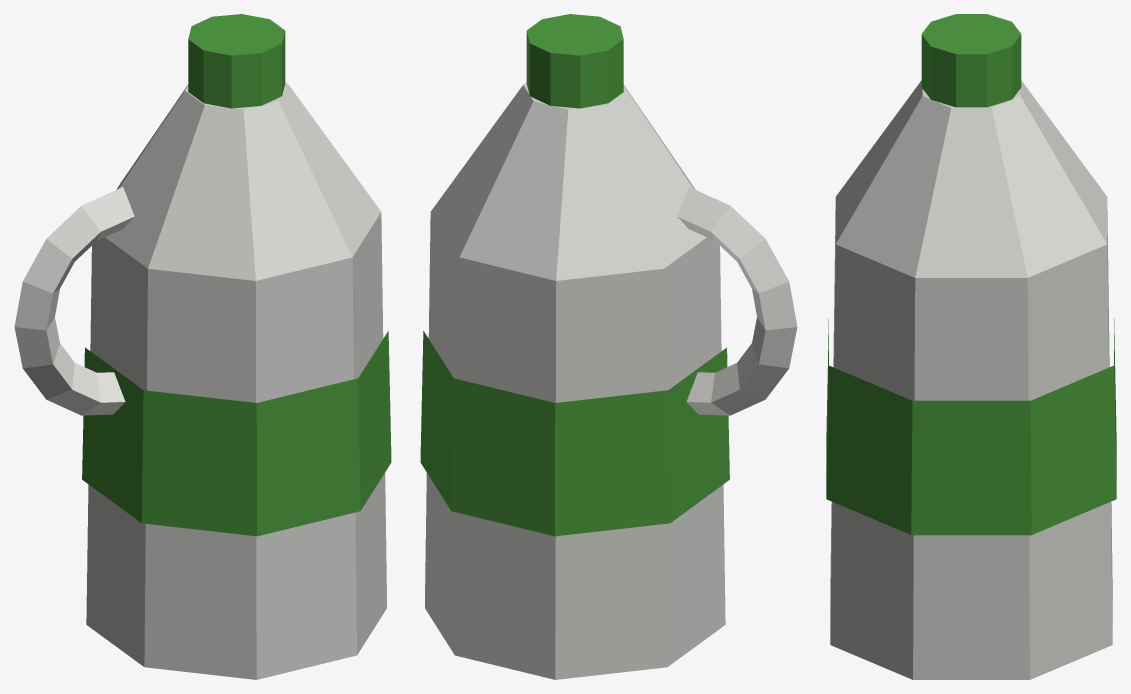
File: g-milk.glb
3 views of the same model, side by side, from view 1: azimuth 30°, elevation 25°; view 2: azimuth 150°, elevation 25°; view 3: azimuth 270°, elevation 25° (orthographic).
Visible parts, largest first — view 1: g_milk; view 2: g_milk; view 3: g_milk.
Part boxes in pixels (<box>): g_milk: <box>14,14,391,679</box>; g_milk: <box>420,14,797,679</box>; g_milk: <box>826,14,1116,679</box>.
Bounding box in the file's own units: 0.1374 × 0.22 × 0.0989.
